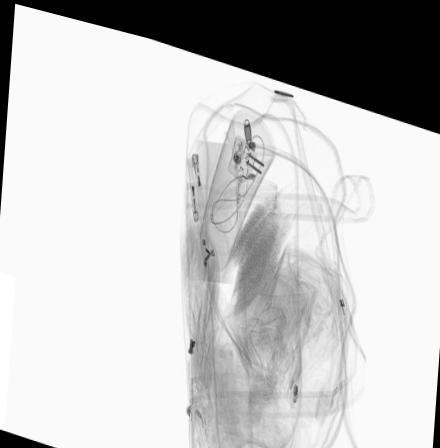Lighter: (192, 145, 207, 212), (187, 146, 200, 212)
